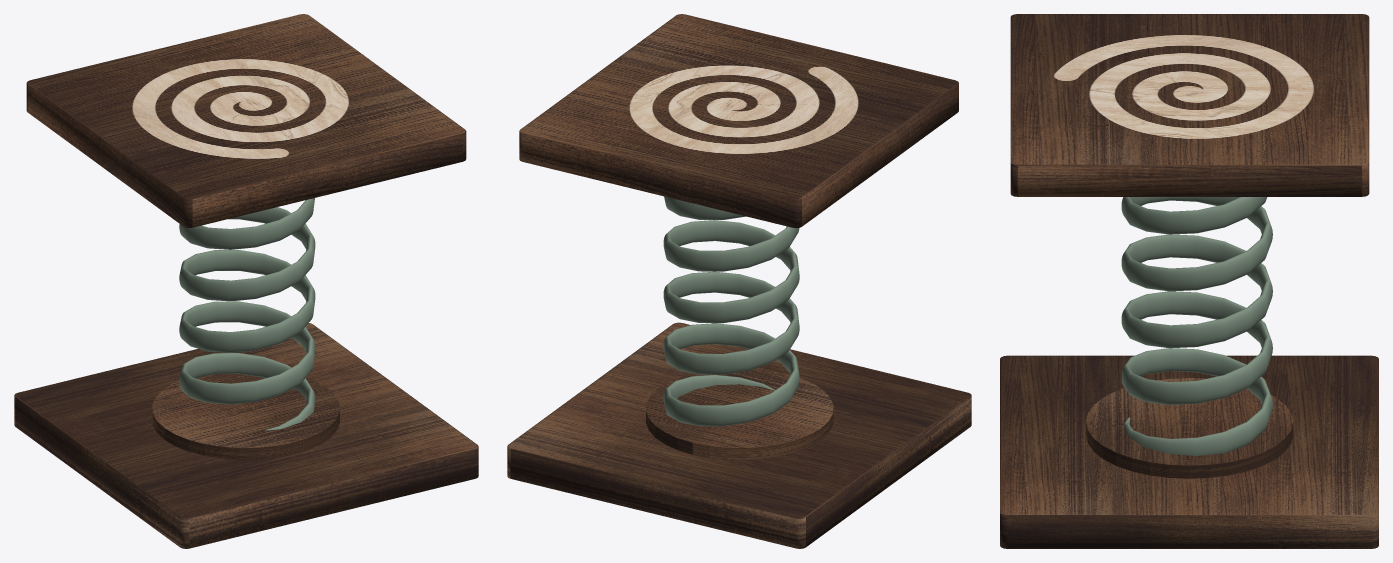
The model's file is spring new pivot.fbx.
3 views of the same model, side by side, from view 1: azimuth 30°, elevation 25°; view 2: azimuth 150°, elevation 25°; view 3: azimuth 270°, elevation 25° (orthographic). The views are drawn at different scales.
Parts seen in each view (by area): view 1: spring head, spring base, spring; view 2: spring head, spring base, spring; view 3: spring head, spring base, spring.
Part boxes in pixels (x1,y1,x2,y2): spring head: [26, 14, 466, 227]; spring base: [14, 323, 478, 548]; spring: [179, 198, 315, 430]; spring head: [519, 14, 958, 228]; spring base: [507, 322, 971, 548]; spring: [663, 196, 799, 426]; spring head: [1010, 14, 1369, 196]; spring base: [1000, 355, 1378, 548]; spring: [1121, 197, 1272, 455].
Bounding box in the file's own units: 187 × 207 × 187.
